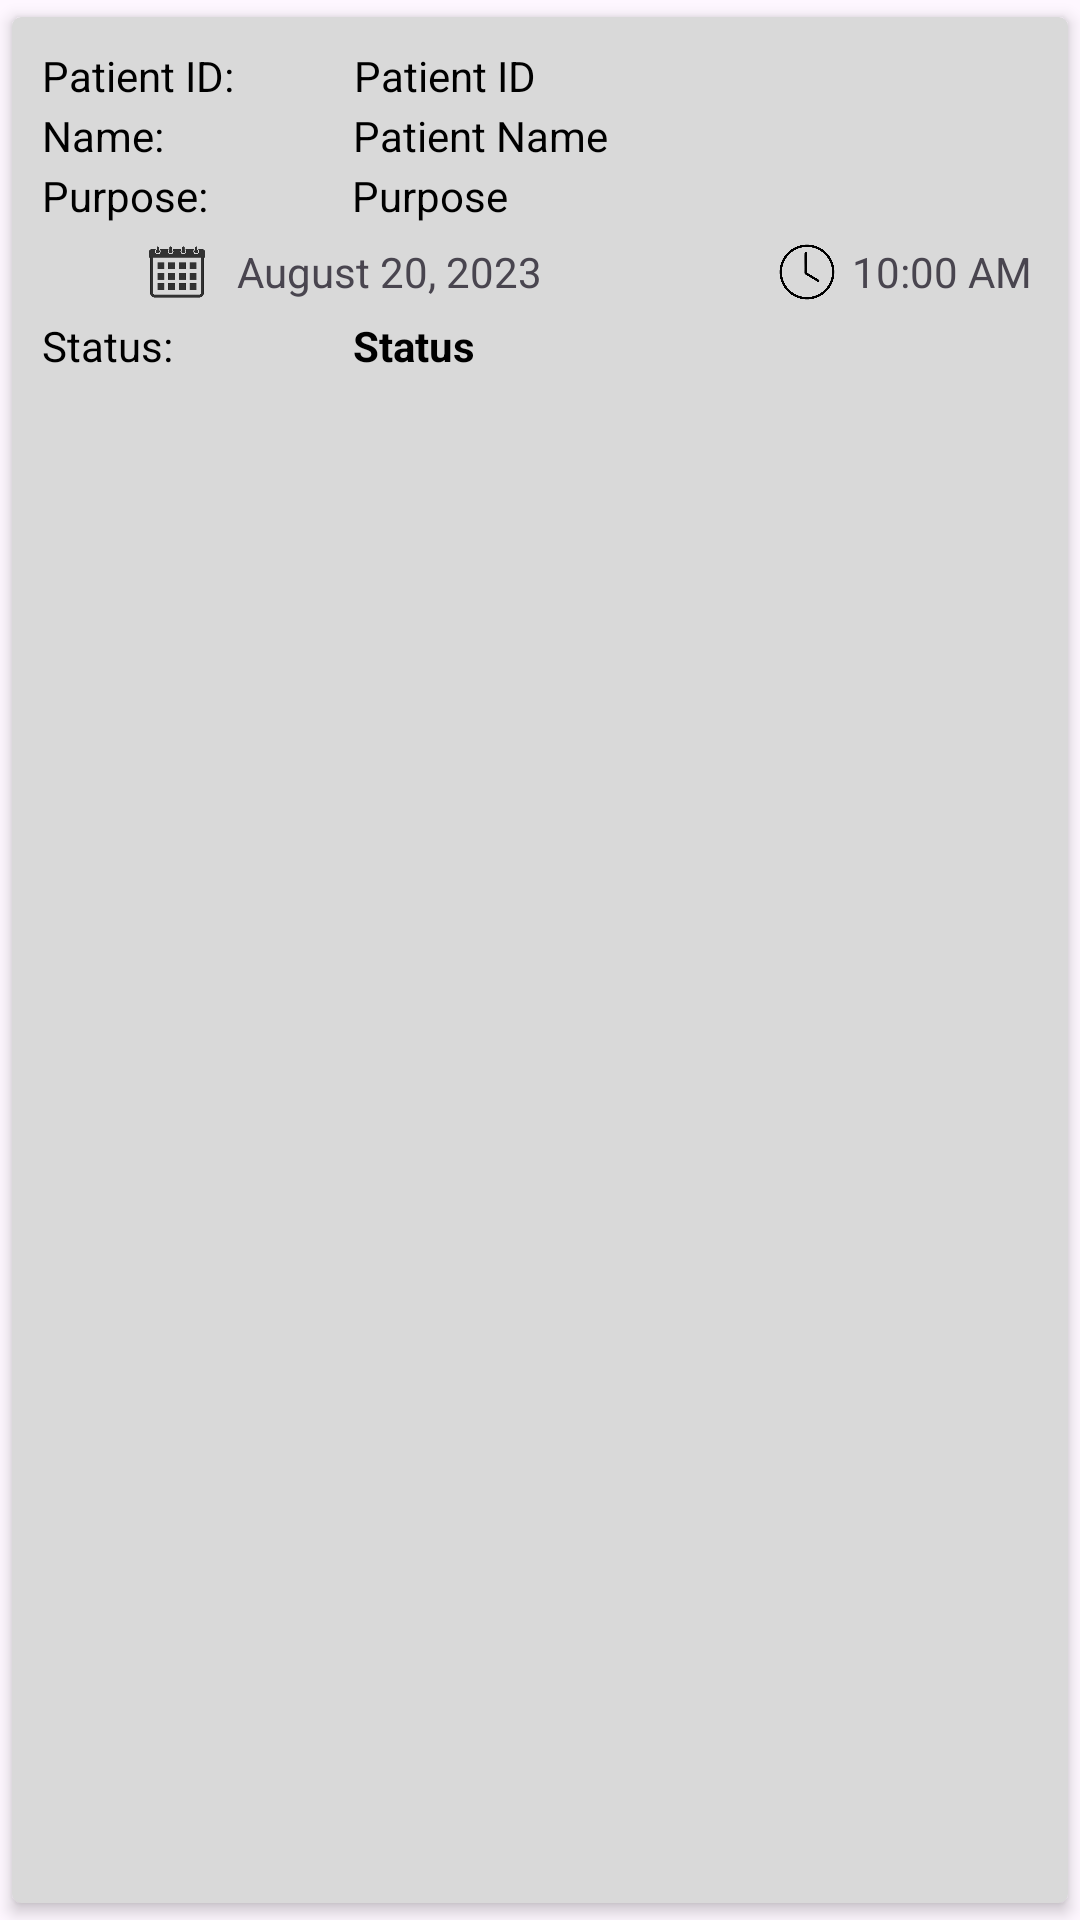

Named icons in this screenshot (1080×1920) and their bounding boxes, bbox=[x1, y1, x2, y2]:
date: bbox=[149, 246, 205, 298]
time: bbox=[779, 244, 835, 300]
